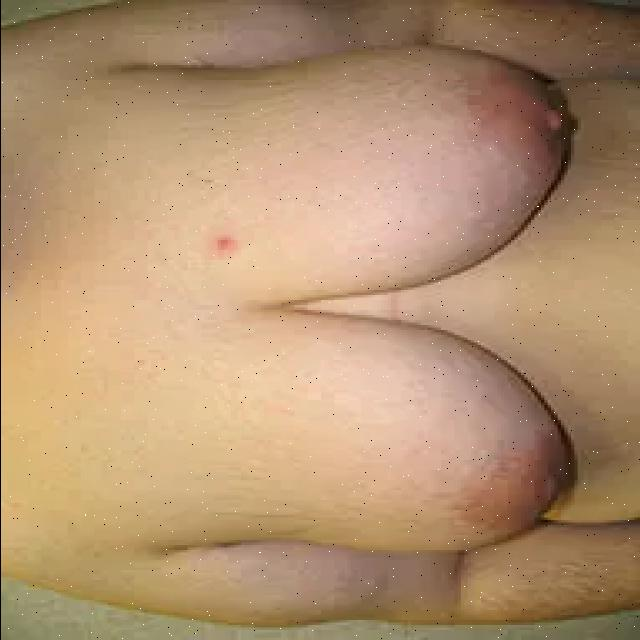Seno ileso: (153, 37, 602, 306), (152, 308, 602, 560)
